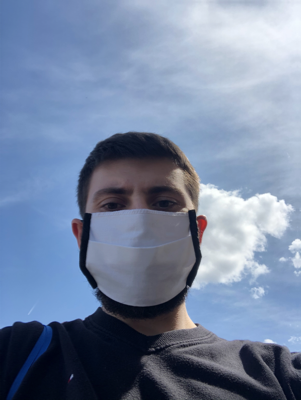with_mask: (80, 179, 201, 318)
